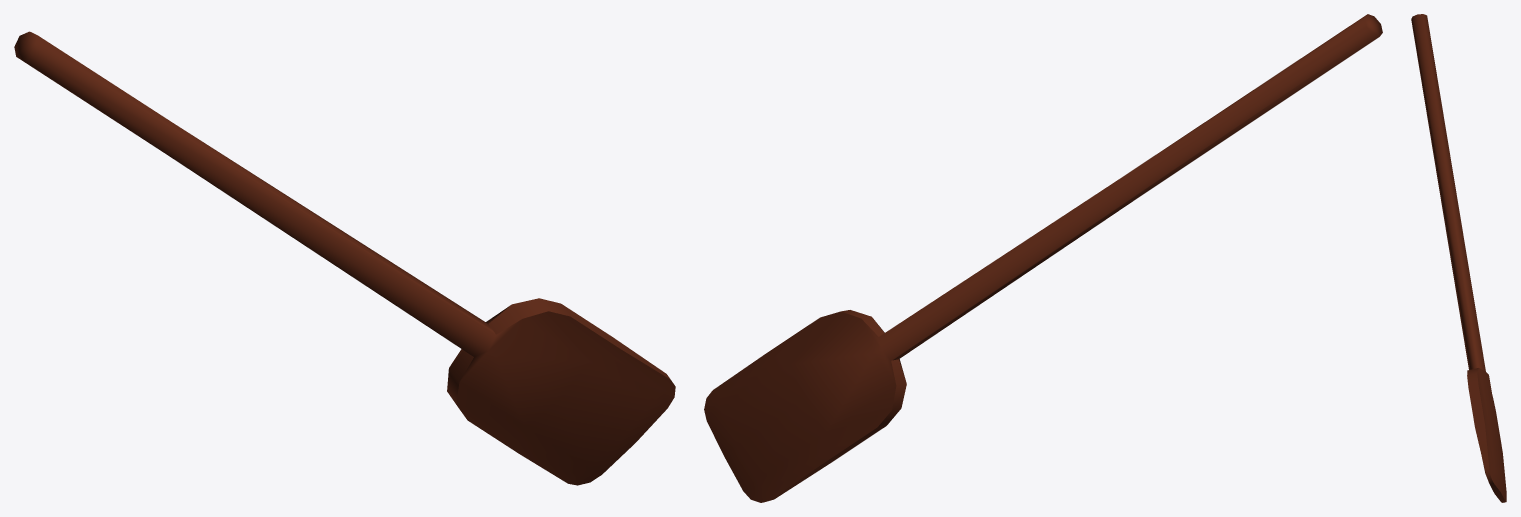
The model's file is leftStick.fbx.
3 views of the same model, side by side, from view 1: azimuth 30°, elevation 25°; view 2: azimuth 150°, elevation 25°; view 3: azimuth 270°, elevation 25° (orthographic). The views are drawn at different scales.
Visible parts, largest first — view 1: remo2; view 2: remo2; view 3: remo2.
Boxes of the visible parts, <box> form: remo2: <box>14,31,675,485</box>; remo2: <box>704,14,1382,502</box>; remo2: <box>1411,14,1506,502</box>.
Size of the model in its own units: 126 by 111 by 28.8.
